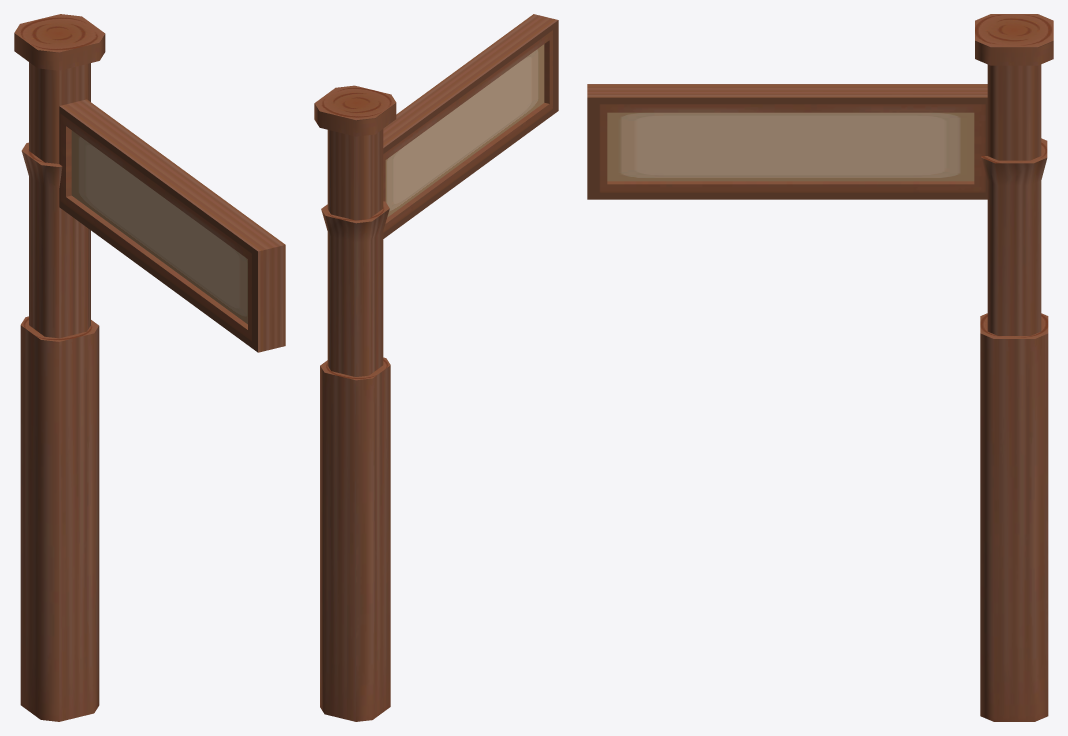
The model's file is Hard Wood Sign Hand.fbx.
The picture shows the model from 3 angles, left to right: view 1: azimuth 30°, elevation 25°; view 2: azimuth 150°, elevation 25°; view 3: azimuth 270°, elevation 25°; orthographic projection. The views are drawn at different scales.
Parts seen in each view (by area): view 1: FencePost (1); view 2: FencePost (1); view 3: FencePost (1).
Boxes of the visible parts, left/top/right/bottom form: FencePost (1): left=14, top=14, right=285, bottom=721; FencePost (1): left=314, top=14, right=558, bottom=721; FencePost (1): left=587, top=14, right=1053, bottom=721.
Bounding box in the file's own units: 0.1935 × 1.83 × 1.15.
